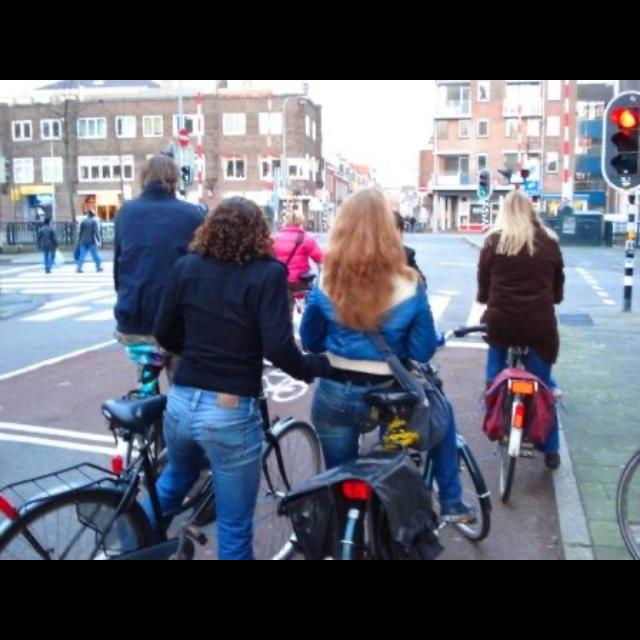Without Helmet: (330, 177, 406, 263), (205, 185, 272, 268), (132, 142, 186, 200), (489, 180, 539, 234)
